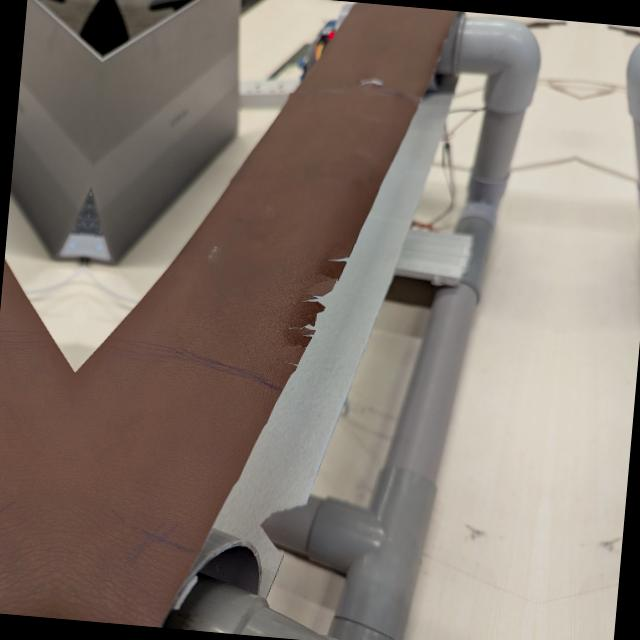edge_damage: (272, 232, 357, 379)
joint_damage: (357, 68, 389, 95)
